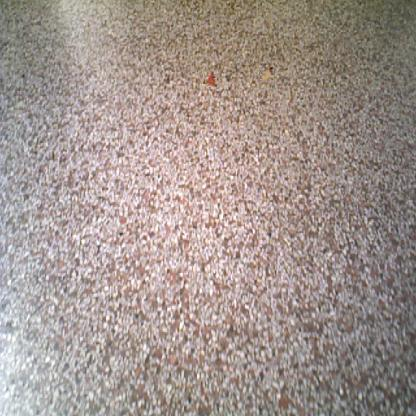dirty: (204, 70, 218, 86), (260, 66, 274, 80), (228, 0, 238, 8)
